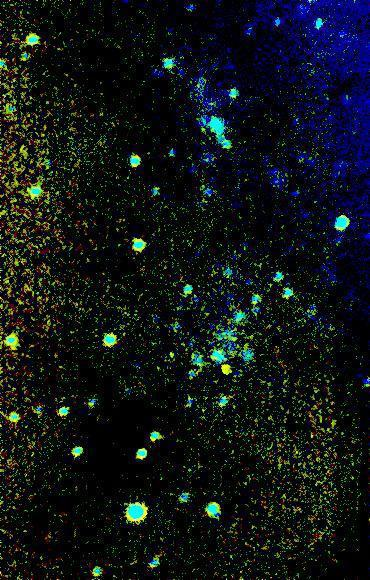star: (209, 355, 239, 385)
